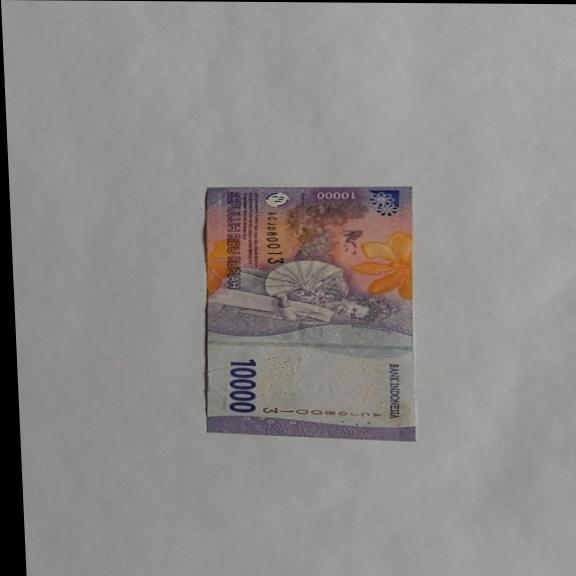Kertas: (195, 184, 423, 441), (224, 358, 261, 414)
